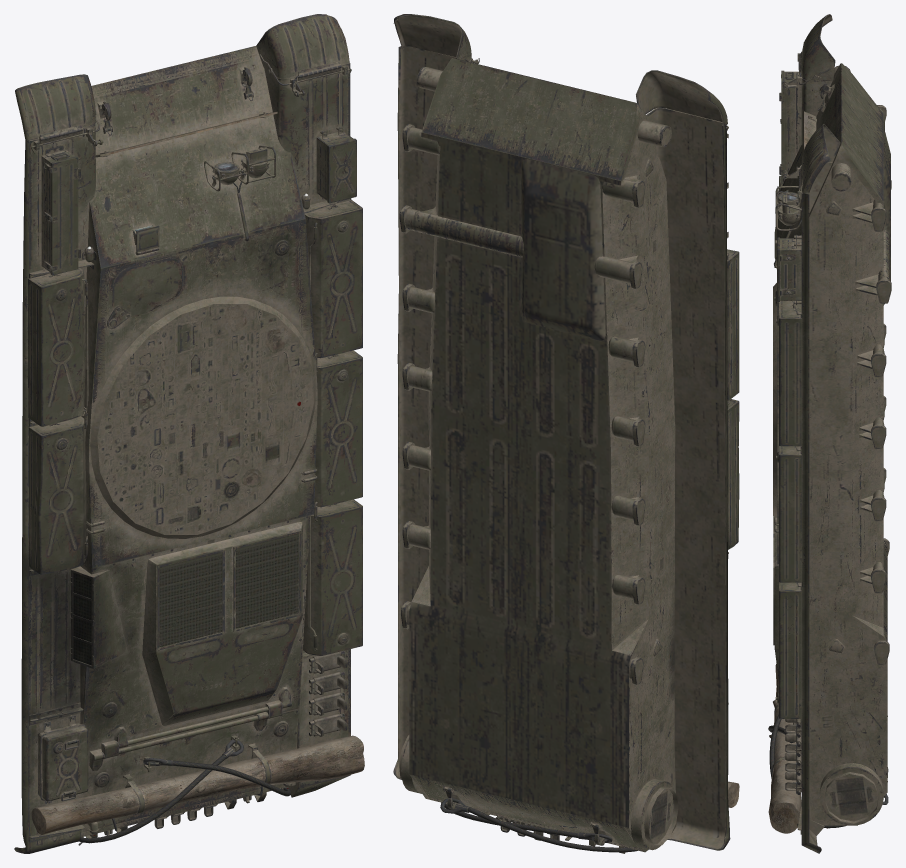
File: Hull.glb
The picture shows the model from 3 angles, left to right: view 1: azimuth 30°, elevation 25°; view 2: azimuth 150°, elevation 25°; view 3: azimuth 270°, elevation 25°; orthographic projection. The views are drawn at different scales.
Parts seen in each view (by area): view 1: set_0_group_0; view 2: set_0_group_0; view 3: set_0_group_0.
Part boxes in pixels (x1,y1,x2,y2): set_0_group_0: (14,14,364,853); set_0_group_0: (393,14,739,853); set_0_group_0: (768,14,891,853).
Bounding box in the file's own units: 2.87 × 6.49 × 1.02.
1 material, 1 textured.
